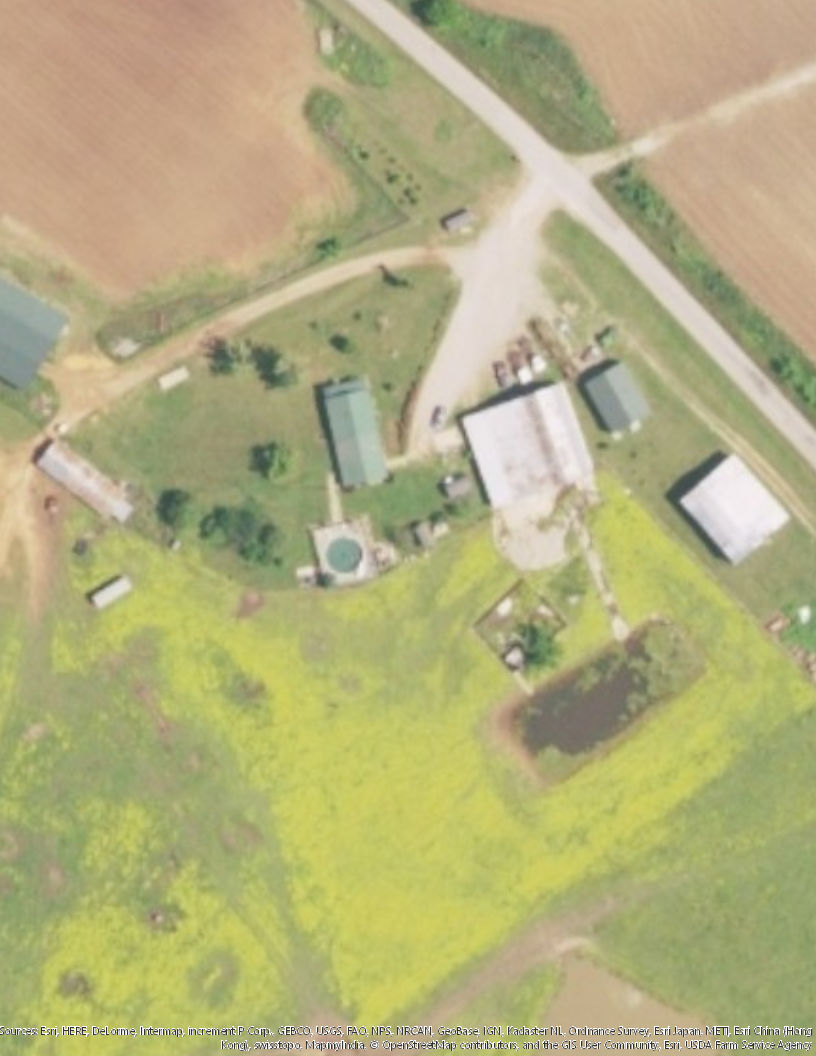cafo: (455, 370, 608, 526)
